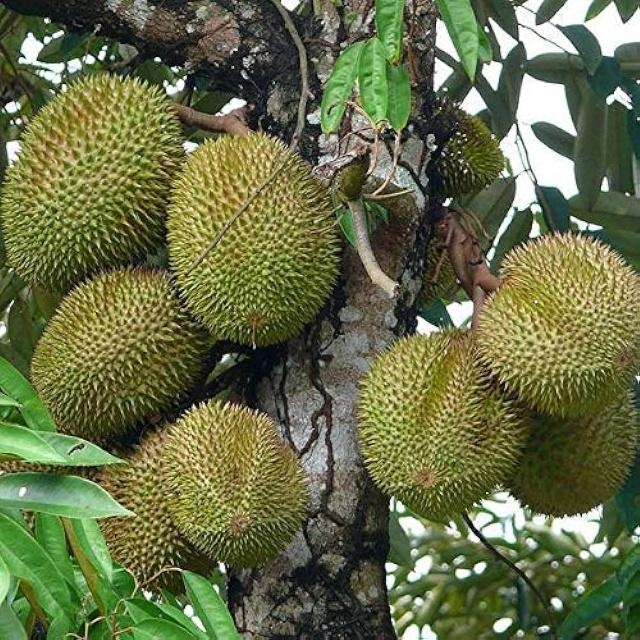sau_rieng: (2, 67, 190, 293), (353, 312, 543, 535), (168, 117, 346, 348), (35, 269, 261, 446), (475, 225, 640, 422), (160, 402, 324, 555), (102, 431, 226, 604), (498, 387, 640, 530)
